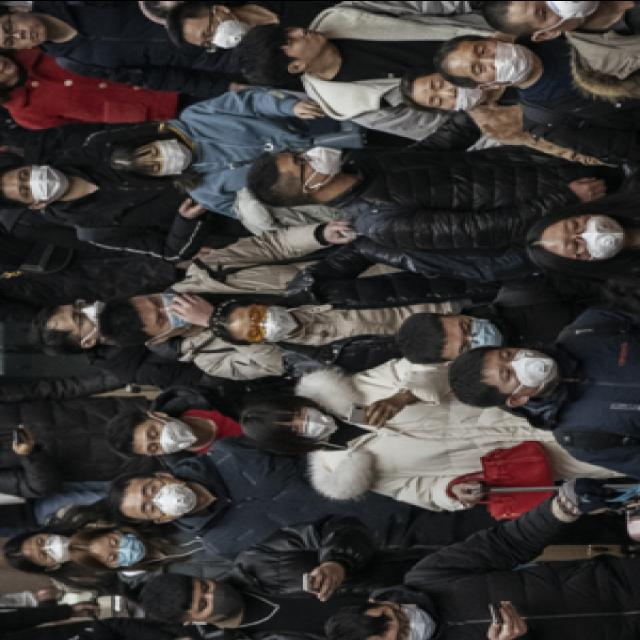mask: (463, 38, 538, 84), (491, 344, 561, 392), (555, 211, 625, 256), (448, 310, 508, 356), (140, 288, 200, 331), (132, 476, 196, 516), (239, 301, 299, 341), (138, 416, 196, 456), (13, 160, 70, 200), (520, 0, 604, 27), (380, 598, 436, 638), (190, 578, 243, 620), (192, 13, 252, 48), (282, 141, 342, 176), (62, 294, 111, 334), (282, 405, 338, 440), (143, 136, 194, 174), (27, 532, 74, 562)
no_mask: (420, 74, 490, 108), (273, 22, 329, 54), (0, 11, 47, 48)
